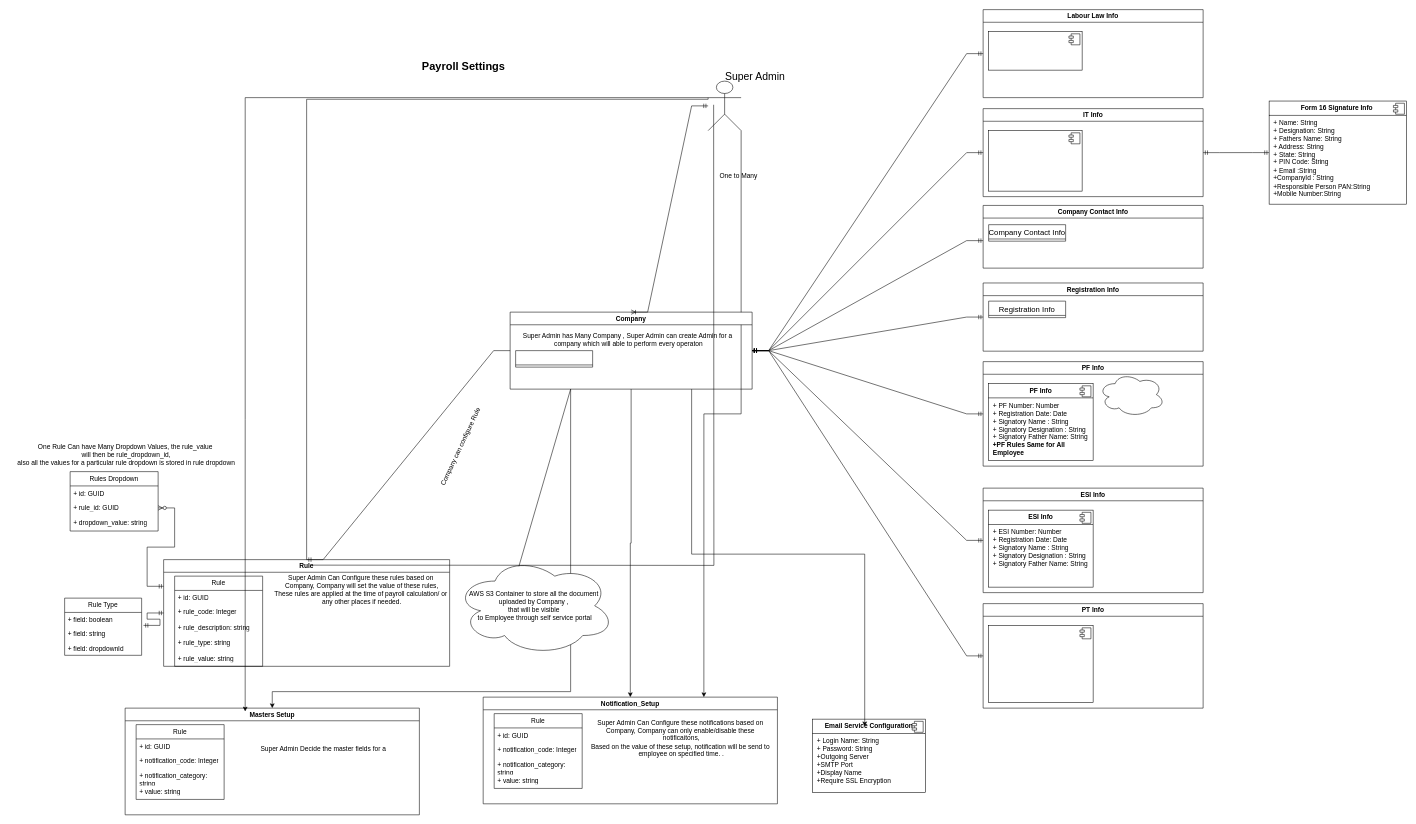
This 1416x824 diagram has some shape labels left out. The centre of each missing label's shape, as x and y in pixels:
+PF Rules Same for All Employee: point (1131, 394)
Actor: point (724, 106)
Company Profile: point (554, 358)
IT Info + PAN: String + TAN: String + TAN Circle: String + CIT (TDS): String: point (1035, 160)
Labour Law Info + Signatory Name: String + Address: String: point (1035, 50)
PT Info + PT Number: Number + Registration Date: Date + Signatory Name : String: point (1040, 664)
